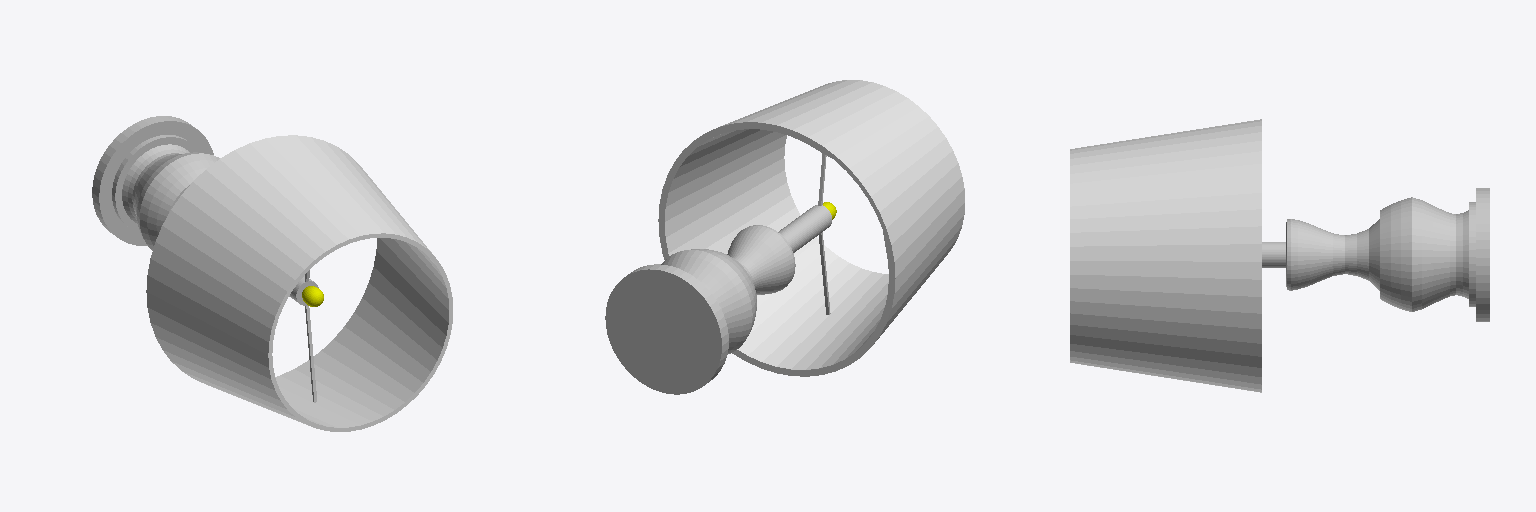
3 views of the same model, side by side, from view 1: azimuth 30°, elevation 25°; view 2: azimuth 150°, elevation 25°; view 3: azimuth 270°, elevation 25° (orthographic).
Parts seen in each view (by area): view 1: LamparaPequeña.001_Material.001, LamparaPequeña.001_Material.002; view 2: LamparaPequeña.001_Material.001, LamparaPequeña.001_Material.002; view 3: LamparaPequeña.001_Material.001, LamparaPequeña.001_Material.002.
Part boxes in pixels (bbox=[...]): LamparaPequeña.001_Material.001: bbox=[146, 135, 452, 431]; LamparaPequeña.001_Material.002: bbox=[92, 116, 318, 402]; LamparaPequeña.001_Material.001: bbox=[658, 80, 964, 376]; LamparaPequeña.001_Material.002: bbox=[605, 153, 831, 394]; LamparaPequeña.001_Material.001: bbox=[1070, 119, 1261, 392]; LamparaPequeña.001_Material.002: bbox=[1262, 188, 1489, 321].
Size of the model in its own units: 0.8884 by 0.8884 by 1.36.
3 materials, 2 textured.